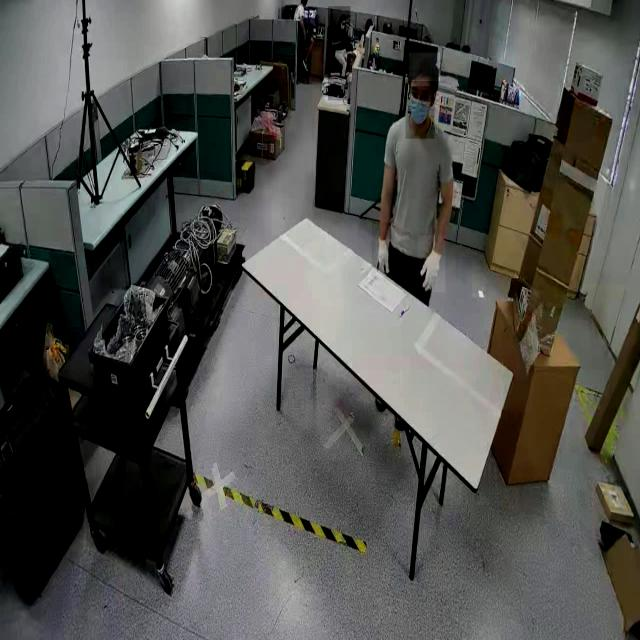face_mask: (406, 86, 434, 139)
hand_glove: (418, 236, 446, 294), (372, 222, 394, 275)
head_nohelmet: (408, 52, 440, 82), (340, 12, 348, 22)
person: (375, 52, 463, 310), (328, 7, 350, 102)
